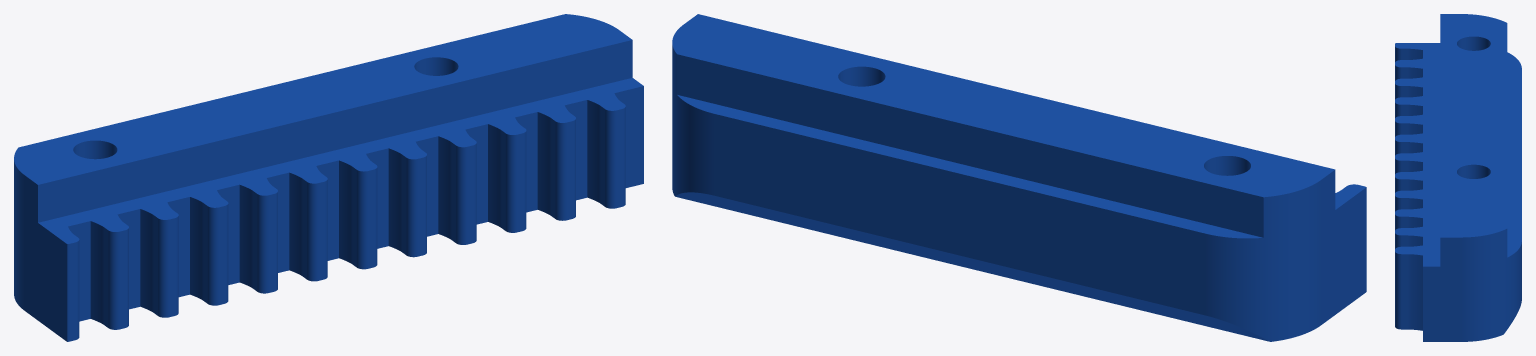
File: Assembly 2 - Rack gear_2.obj
3 views of the same model, side by side, from view 1: azimuth 30°, elevation 25°; view 2: azimuth 150°, elevation 25°; view 3: azimuth 270°, elevation 25° (orthographic). The views are drawn at different scales.
Parts seen in each view (by area): view 1: mesh1, mesh3, mesh120, mesh4, mesh123, mesh127, mesh22, mesh82, mesh112, mesh72, mesh12, mesh52 (+57 smaller); view 2: mesh129, mesh1, mesh125, mesh127, mesh130, mesh128, mesh4, mesh126, mesh0, mesh2; view 3: mesh1, mesh120, mesh126, mesh5, mesh128, mesh122, mesh118, mesh119, mesh2, mesh0, mesh121, mesh21 (+10 smaller).
Boxes of the visible parts, x1,y1,x2,y2 form: mesh1: [14, 14, 632, 184]; mesh3: [38, 40, 632, 222]; mesh120: [38, 78, 643, 243]; mesh4: [24, 175, 67, 341]; mesh123: [614, 86, 643, 187]; mesh127: [14, 160, 24, 310]; mesh22: [117, 209, 140, 309]; mesh82: [416, 136, 438, 236]; mesh112: [565, 100, 587, 200]; mesh72: [366, 148, 388, 248]; mesh12: [68, 221, 90, 321]; mesh52: [267, 172, 289, 272]; mesh129: [714, 114, 1205, 315]; mesh1: [672, 14, 1334, 197]; mesh125: [677, 54, 1263, 237]; mesh127: [1205, 180, 1320, 341]; mesh130: [675, 192, 1269, 341]; mesh128: [677, 95, 1262, 238]; mesh4: [1321, 170, 1366, 324]; mesh126: [672, 45, 714, 196]; mesh0: [838, 66, 885, 86]; mesh2: [1204, 156, 1250, 175]; mesh1: [1440, 14, 1507, 237]; mesh120: [1395, 43, 1440, 266]; mesh126: [1461, 229, 1521, 341]; mesh5: [1423, 237, 1461, 341]; mesh128: [1507, 52, 1521, 257]; mesh122: [1411, 254, 1422, 330]; mesh118: [1395, 252, 1401, 329]; mesh119: [1401, 254, 1407, 329]; mesh2: [1457, 36, 1490, 50]; mesh0: [1457, 164, 1490, 178]; mesh121: [1408, 254, 1411, 329]; mesh21: [1411, 67, 1422, 78].
Bounding box in the file's own units: 0.0436 × 0.0095 × 0.0104.
